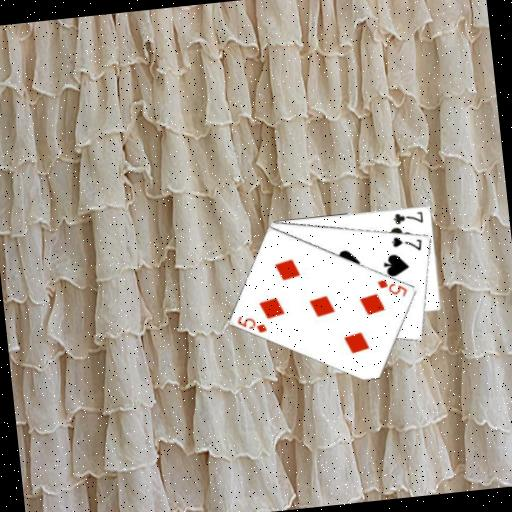5D: (374, 274, 410, 301), (234, 310, 270, 337)
7C: (390, 208, 425, 227)
7S: (389, 231, 425, 255)
